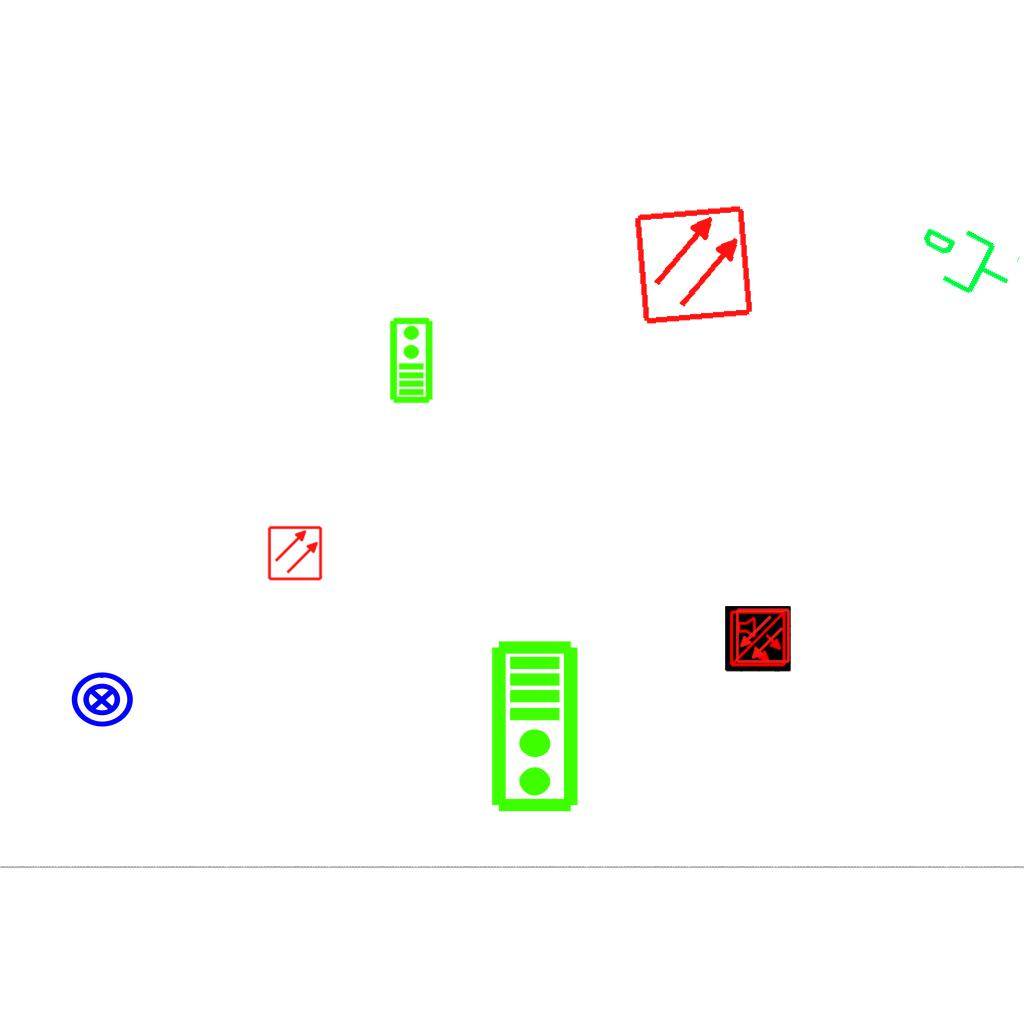Datenanschluss_einfach: (904, 208, 1024, 316)
Gegensprechanlage_mit_Video: (489, 639, 584, 815), (387, 316, 434, 404)
OKW_Multisensormelder_(Kombination_optischer_Rauch-Kahlenmonoxid_Waerme-Melder): (725, 606, 791, 672)
RMO_Rauchmelder_optischer: (632, 203, 755, 326), (267, 525, 323, 581), (735, 608, 791, 664)
Taster_beleuchtet: (69, 667, 135, 733)
